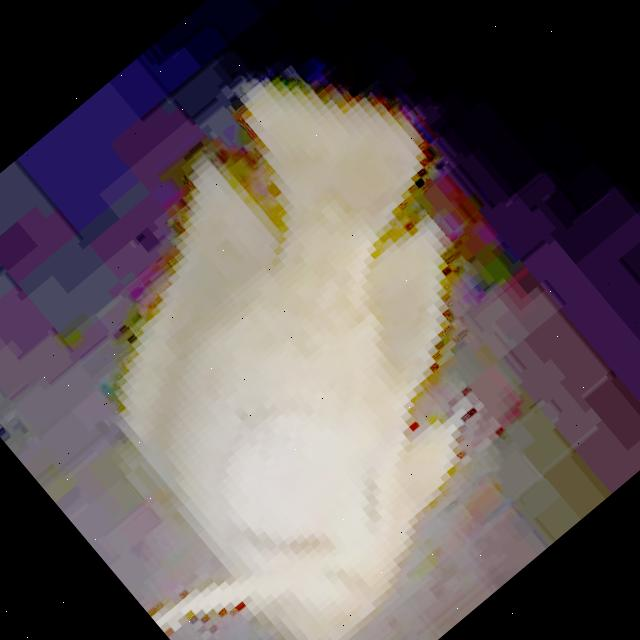Columnaris Disease: (122, 84, 453, 640)
